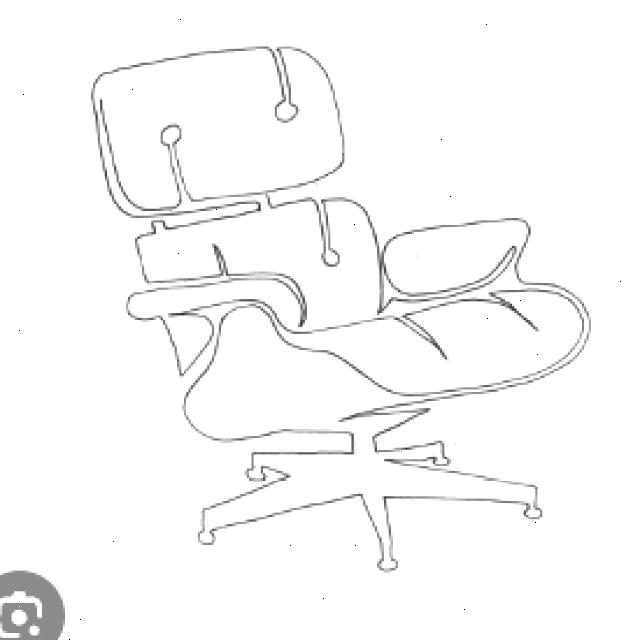Backrest: (131, 194, 386, 330)
Eames_base: (190, 439, 564, 585)
Eames_lounge: (378, 215, 537, 314), (119, 268, 313, 335)
Headrest: (87, 42, 353, 221)
Seat: (172, 276, 595, 446)
